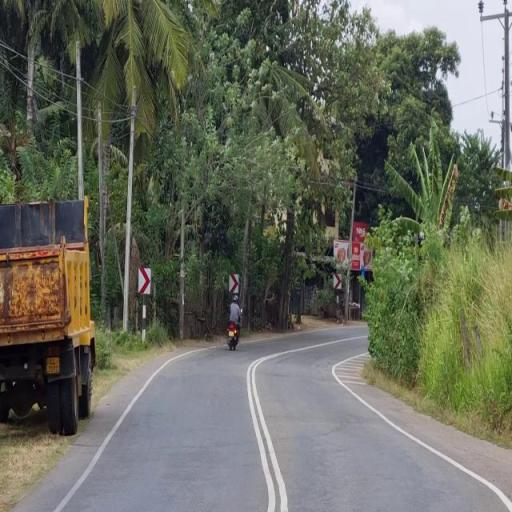double_white_line: (246, 352, 290, 512)
